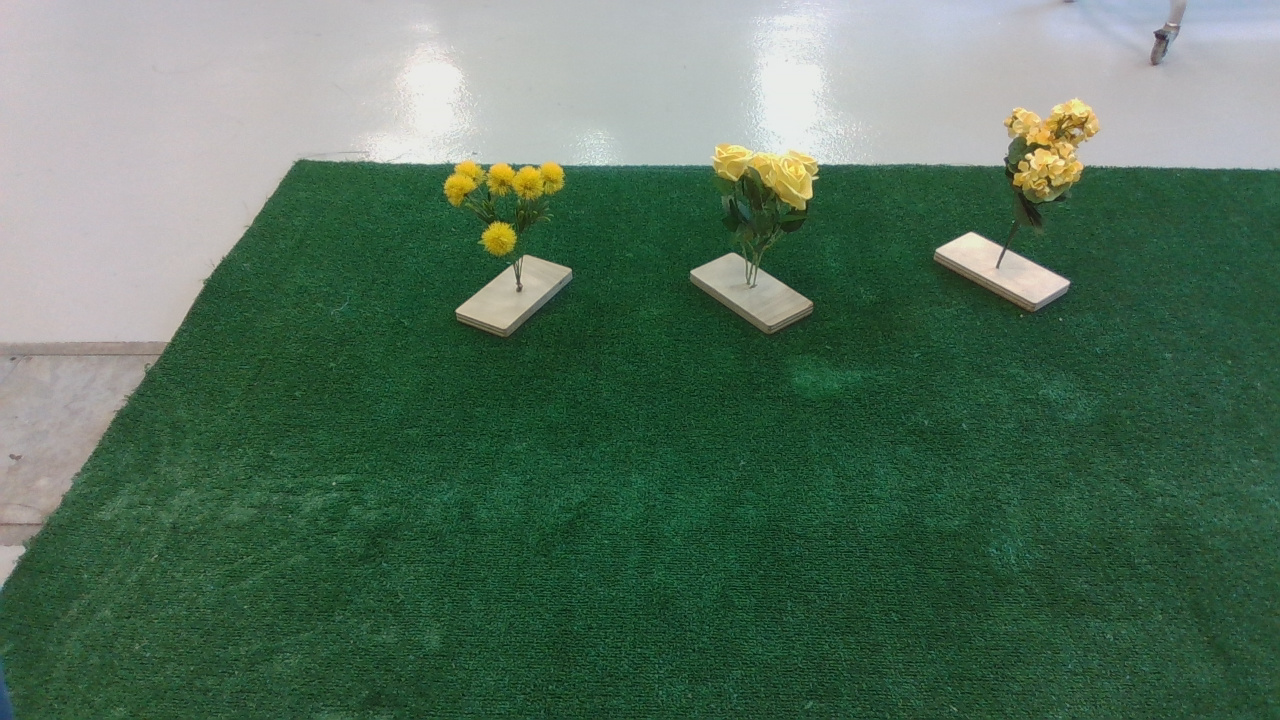dandelion: (444, 158, 584, 263)
geranium: (994, 96, 1109, 227)
rose: (698, 149, 839, 254)
